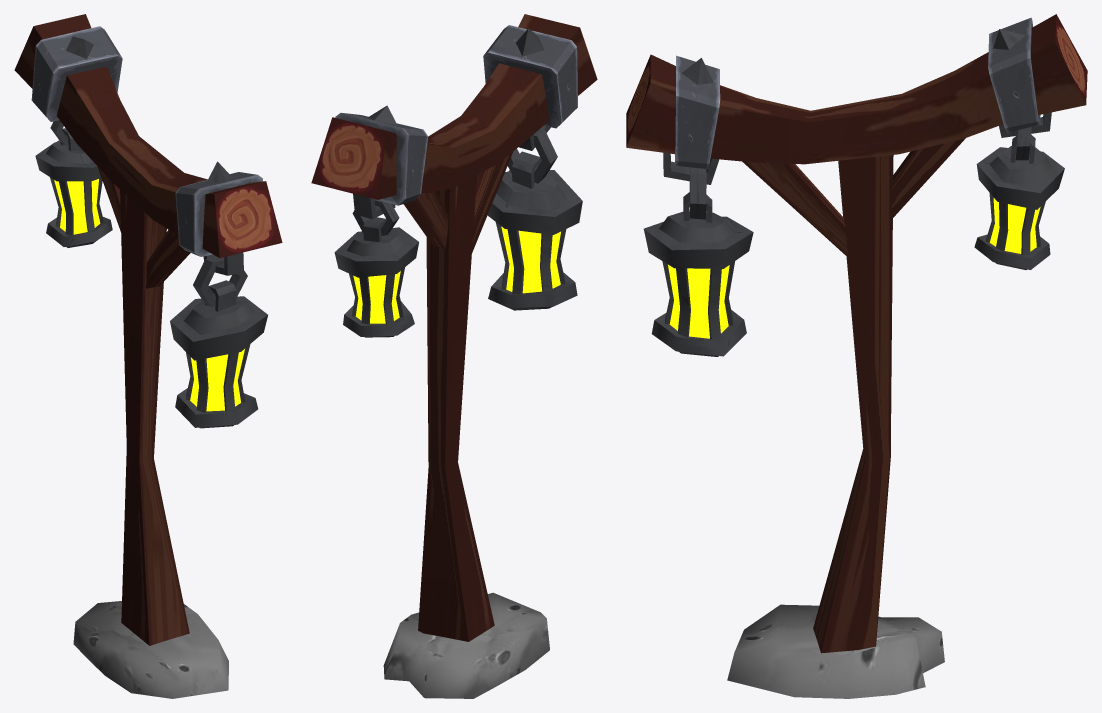
The model's file is SM_PROP_streetlamp_v02_02.glb.
3 views of the same model, side by side, from view 1: azimuth 30°, elevation 25°; view 2: azimuth 150°, elevation 25°; view 3: azimuth 270°, elevation 25° (orthographic). The views are drawn at different scales.
Parts seen in each view (by area): view 1: SM_PROP_streetlamp_v02_02_EXPORT; view 2: SM_PROP_streetlamp_v02_02_EXPORT; view 3: SM_PROP_streetlamp_v02_02_EXPORT.
Boxes of the visible parts, x1,y1,x2,y2 form: SM_PROP_streetlamp_v02_02_EXPORT: (14, 14, 282, 698); SM_PROP_streetlamp_v02_02_EXPORT: (311, 14, 597, 698); SM_PROP_streetlamp_v02_02_EXPORT: (626, 14, 1087, 698).
Bounding box in the file's own units: 0.8232 × 4.02 × 2.63.
6 materials, 6 textured.
